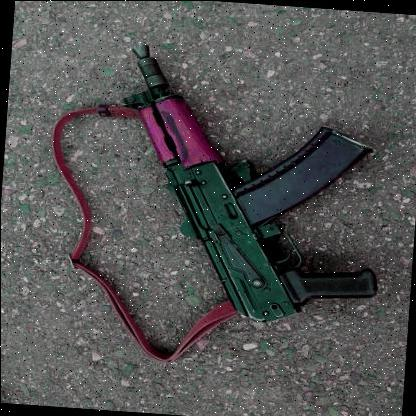rifle: (70, 40, 400, 341)
